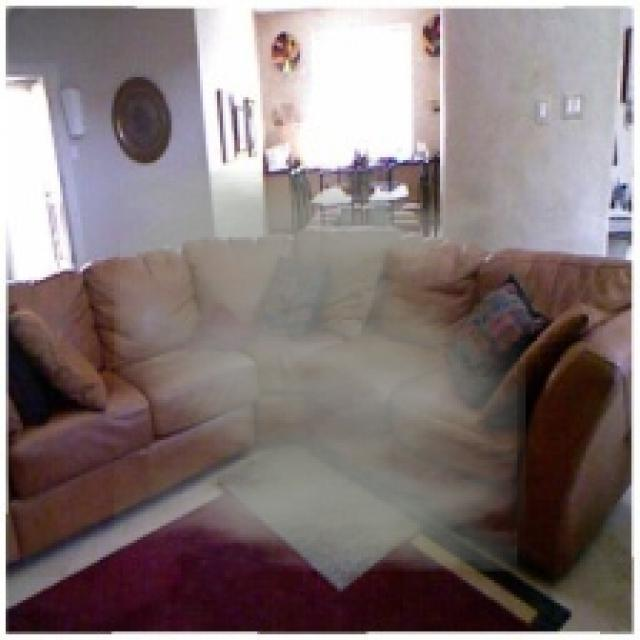Smoke: (114, 168, 526, 572)
